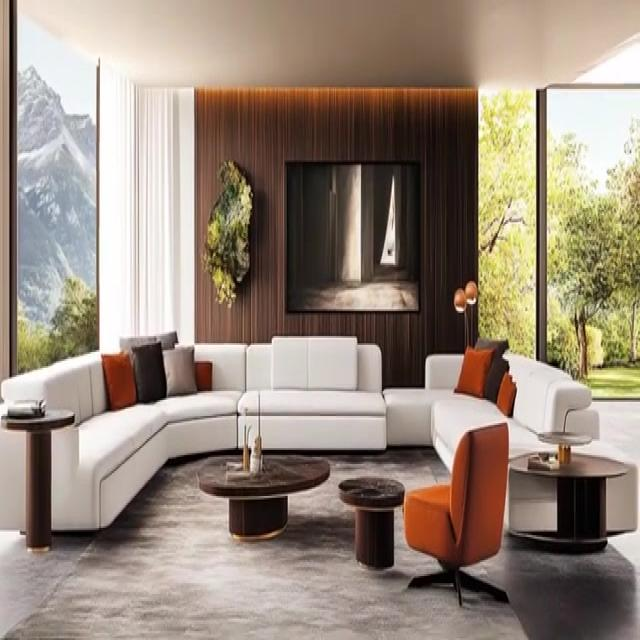obstacle: (1, 344, 237, 530), (403, 422, 509, 606), (237, 334, 387, 452), (507, 450, 628, 553), (196, 452, 330, 540), (0, 407, 75, 551)
